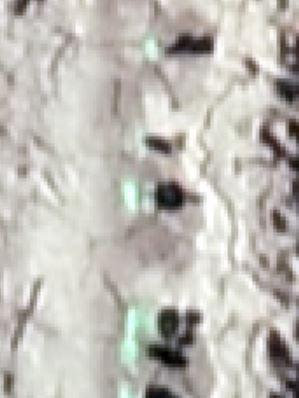cotton: (122, 184, 143, 210), (128, 309, 149, 335), (121, 336, 141, 361), (146, 39, 164, 61), (120, 385, 137, 398), (139, 134, 148, 149)
